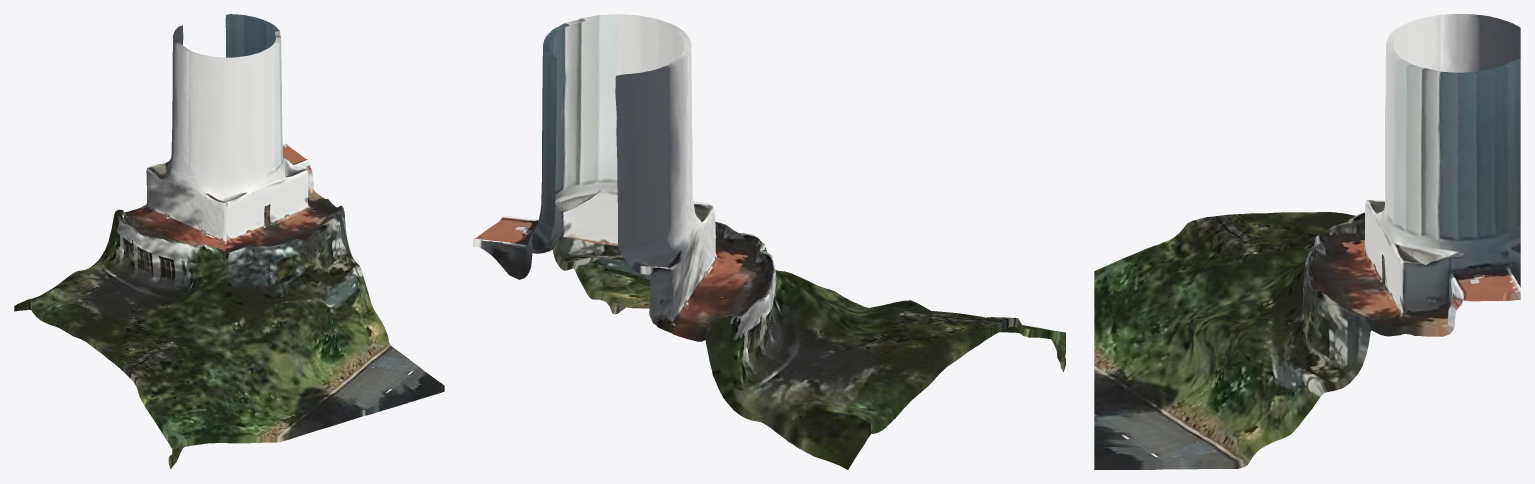
The model's file is z20-167755-405195-h0-yup-uvflip-v3-world.glb.
3 views of the same model, side by side, from view 1: azimuth 30°, elevation 25°; view 2: azimuth 150°, elevation 25°; view 3: azimuth 270°, elevation 25° (orthographic). The views are drawn at different scales.
Bounding box in the file's own units: 30.16 × 30.56 × 30.32.
Materials: 1 (1 with a texture image).
